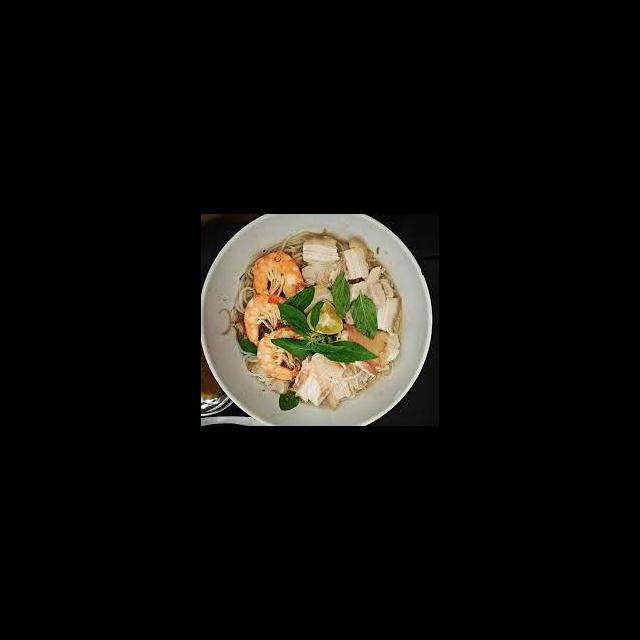ca: (332, 322, 404, 380), (290, 349, 349, 407)
rau ram: (268, 300, 380, 365)
thit heo: (342, 264, 404, 336), (299, 243, 374, 290), (298, 232, 345, 289)
tom: (253, 324, 318, 385), (250, 249, 305, 308), (242, 291, 283, 349)
